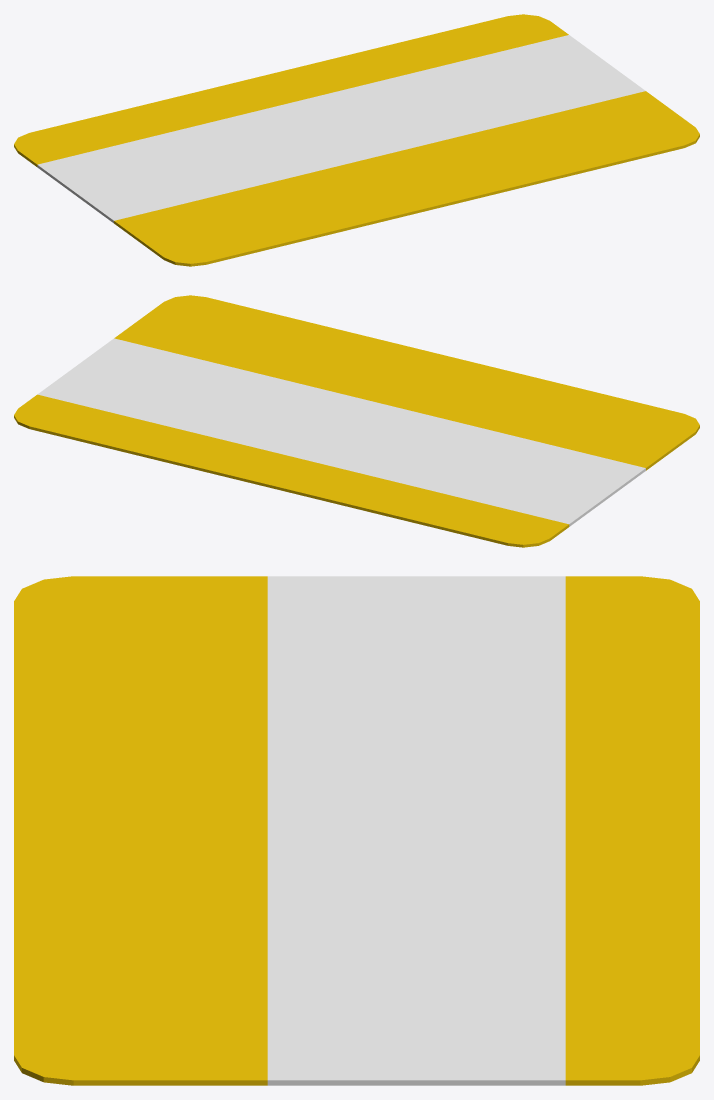
File: KeyCardlvl2.fbx
3 views of the same model, one above another, from view 1: azimuth 30°, elevation 25°; view 2: azimuth 150°, elevation 25°; view 3: azimuth 270°, elevation 25° (orthographic). The views are drawn at different scales.
Parts seen in each view (by area): view 1: CardLVL2; view 2: CardLVL2; view 3: CardLVL2.
Boxes of the visible parts, x1=… form: CardLVL2: x1=14, y1=14, x2=699, y2=266; CardLVL2: x1=14, y1=295, x2=699, y2=547; CardLVL2: x1=14, y1=576, x2=699, y2=1085.
Bounding box in the file's own units: 40 × 0.2 × 23.
